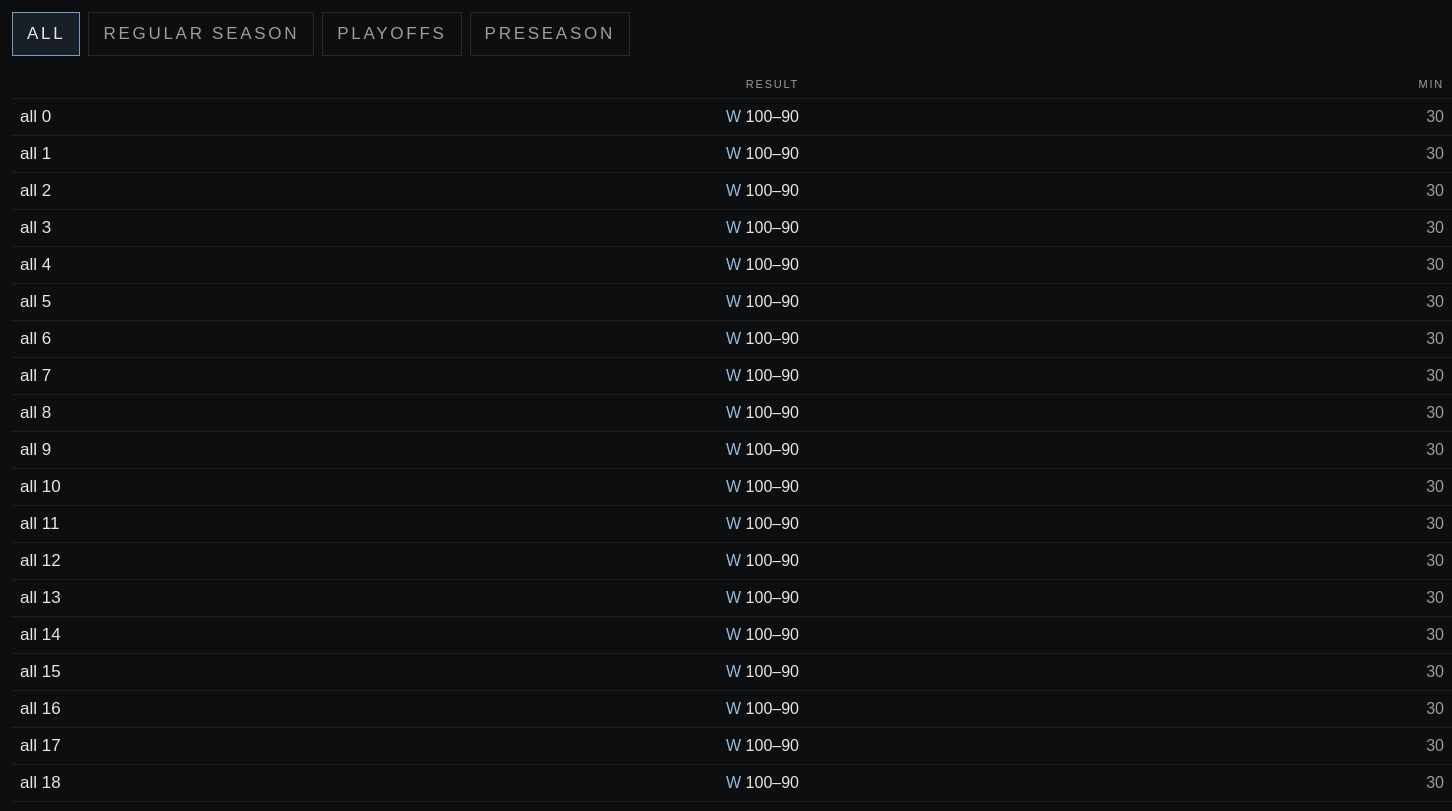
Scenario: GameLog › shows the preseason rows on the Preseason tab
Click the button "Preseason" at (550, 34), box top-left (470, 12), bottom-right (630, 56)
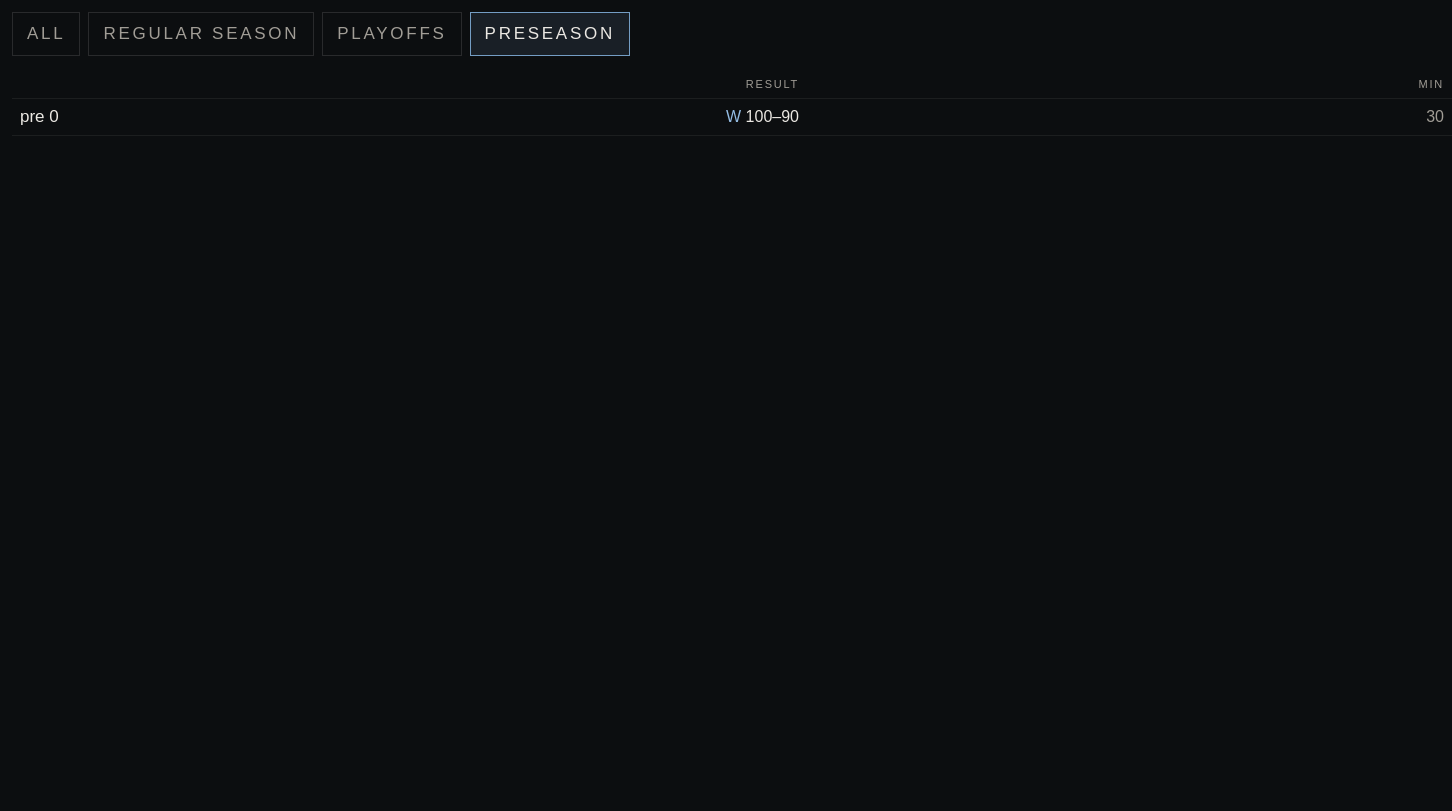
Check: the link "pre 0" is shown, box top-left (20, 107), bottom-right (59, 126)
